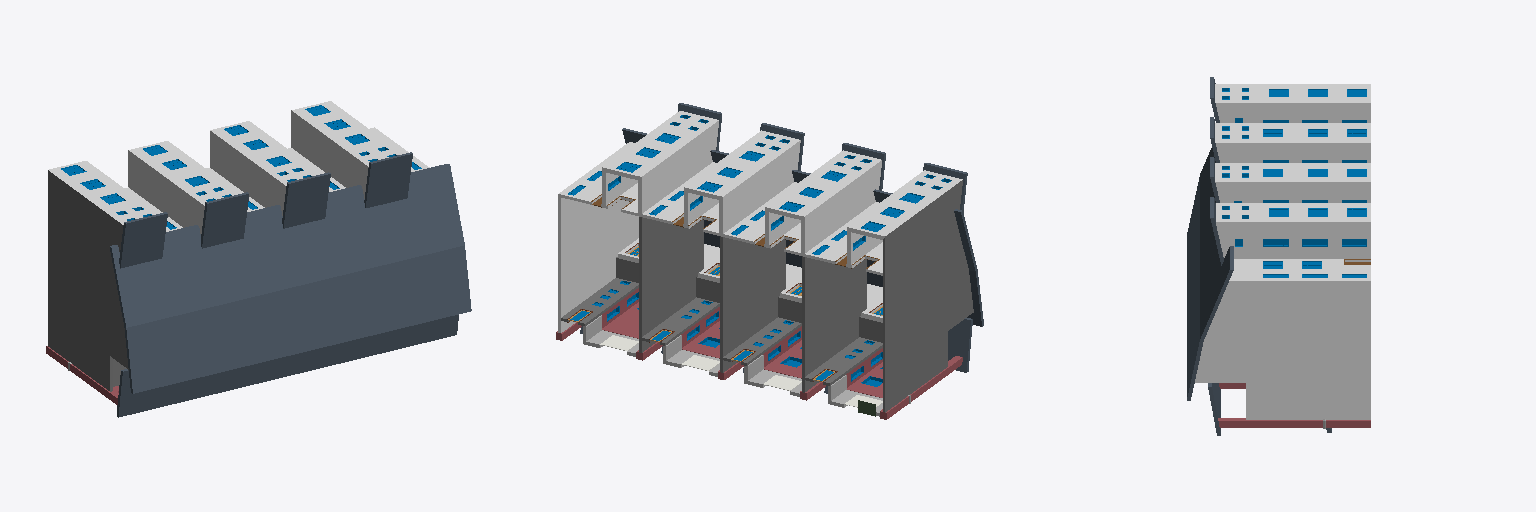
File: c_rvt8_Condo_Complex.obj
3 views of the same model, side by side, from view 1: azimuth 30°, elevation 25°; view 2: azimuth 150°, elevation 25°; view 3: azimuth 270°, elevation 25° (orthographic).
Visible parts, largest first — view 1: Basic_Roof:Generic_-_12":165805, Basic_Wall:Condo_-_Exterior_Stucco:122383, Basic_Roof:Generic_-_12":173767, Basic_Wall:Exterior_-_Brick_on_Mtl._Stud:148438, Basic_Wall:Exterior_-_Brick_on_Mtl._Stud:146178, Basic_Wall:Exterior_-_Brick_on_Mtl._Stud:147302, Basic_Roof:Generic_-_12":166330, Basic_Roof:Generic_-_12":167153, Basic_Roof:Generic_-_12":167184, Basic_Roof:Generic_-_12":167274, Basic_Wall:Exterior_-_Brick_on_Mtl._Stud:147300, Basic_Wall:Exterior_-_Brick_on_Mtl._Stud:148436 (+4 smaller); view 2: Basic_Wall:Condo_-_Exterior_Stucco:122383, Basic_Wall:Condo_-_Exterior_Stucco:174914, Basic_Wall:Condo_-_Exterior_Stucco:165659, Basic_Wall:Condo_-_Exterior_Stucco:165716, Basic_Wall:Condo_-_Exterior_Stucco:165539, Basic_Wall:Condo_-_Exterior_Stucco:147957, Basic_Wall:Exterior_-_Brick_on_Mtl._Stud:147302, Basic_Wall:Exterior_-_Brick_on_Mtl._Stud:146178, Basic_Wall:Exterior_-_Brick_on_Mtl._Stud:148438, Basic_Roof:Generic_-_12":165805, Basic_Wall:Exterior_-_Brick_on_Mtl._Stud:148436, Basic_Wall:Exterior_-_Brick_on_Mtl._Stud:147300 (+18 smaller); view 3: Basic_Wall:Condo_-_Exterior_Stucco:174914, Basic_Roof:Generic_-_12":165805, Basic_Wall:Exterior_-_Brick_on_Mtl._Stud:148435, Basic_Wall:Exterior_-_Brick_on_Mtl._Stud:147299, Basic_Wall:Exterior_-_Brick_on_Mtl._Stud:146175, Basic_Wall:Exterior_-_Brick_on_Mtl._Stud:121698, Basic_Wall:Condo_-_Exterior_Stucco:147957, Basic_Wall:Exterior_-_Brick_on_Mtl._Stud:146176, Basic_Wall:Exterior_-_Brick_on_Mtl._Stud:121729, Basic_Wall:Exterior_-_Brick_on_Mtl._Stud:147300, Basic_Wall:Exterior_-_Brick_on_Mtl._Stud:148436, Rectangular_Column:24"_x_24":168415.
Boxes of the visible parts, x1,y1,x2,y2 form: Basic_Roof:Generic_-_12":165805: [110, 164, 471, 393]; Basic_Wall:Condo_-_Exterior_Stucco:122383: [48, 170, 128, 391]; Basic_Roof:Generic_-_12":173767: [117, 315, 458, 417]; Basic_Wall:Exterior_-_Brick_on_Mtl._Stud:148438: [291, 110, 368, 198]; Basic_Wall:Exterior_-_Brick_on_Mtl._Stud:146178: [128, 150, 204, 233]; Basic_Wall:Exterior_-_Brick_on_Mtl._Stud:147302: [210, 131, 285, 215]; Basic_Roof:Generic_-_12":166330: [119, 212, 167, 268]; Basic_Roof:Generic_-_12":167153: [201, 192, 248, 248]; Basic_Roof:Generic_-_12":167184: [282, 172, 330, 228]; Basic_Roof:Generic_-_12":167274: [364, 152, 412, 207]; Basic_Wall:Exterior_-_Brick_on_Mtl._Stud:147300: [210, 122, 316, 185]; Basic_Wall:Exterior_-_Brick_on_Mtl._Stud:148436: [292, 102, 398, 166]; Basic_Wall:Condo_-_Exterior_Stucco:122383: [883, 180, 973, 412]; Basic_Wall:Condo_-_Exterior_Stucco:174914: [558, 197, 638, 332]; Basic_Wall:Condo_-_Exterior_Stucco:165659: [720, 236, 785, 372]; Basic_Wall:Condo_-_Exterior_Stucco:165716: [639, 217, 703, 352]; Basic_Wall:Condo_-_Exterior_Stucco:165539: [802, 256, 866, 392]; Basic_Wall:Condo_-_Exterior_Stucco:147957: [558, 142, 882, 275]; Basic_Wall:Exterior_-_Brick_on_Mtl._Stud:147302: [719, 140, 800, 233]; Basic_Wall:Exterior_-_Brick_on_Mtl._Stud:146178: [801, 160, 881, 253]; Basic_Wall:Exterior_-_Brick_on_Mtl._Stud:148438: [638, 121, 718, 213]; Basic_Roof:Generic_-_12":165805: [622, 128, 983, 326]; Basic_Wall:Exterior_-_Brick_on_Mtl._Stud:148436: [606, 112, 718, 179]; Basic_Wall:Exterior_-_Brick_on_Mtl._Stud:147300: [688, 131, 799, 199]; Basic_Wall:Condo_-_Exterior_Stucco:174914: [1195, 284, 1370, 419]; Basic_Roof:Generic_-_12":165805: [1187, 148, 1233, 400]; Basic_Wall:Exterior_-_Brick_on_Mtl._Stud:148435: [1216, 220, 1370, 258]; Basic_Wall:Exterior_-_Brick_on_Mtl._Stud:147299: [1215, 180, 1370, 202]; Basic_Wall:Exterior_-_Brick_on_Mtl._Stud:146175: [1215, 141, 1370, 162]; Basic_Wall:Exterior_-_Brick_on_Mtl._Stud:121698: [1215, 101, 1370, 122]; Basic_Wall:Condo_-_Exterior_Stucco:147957: [1228, 259, 1370, 283]; Basic_Wall:Exterior_-_Brick_on_Mtl._Stud:146176: [1215, 123, 1370, 140]; Basic_Wall:Exterior_-_Brick_on_Mtl._Stud:121729: [1215, 84, 1370, 100]; Basic_Wall:Exterior_-_Brick_on_Mtl._Stud:147300: [1215, 163, 1370, 179]; Basic_Wall:Exterior_-_Brick_on_Mtl._Stud:148436: [1216, 203, 1370, 219]; Rectangular_Column:24"_x_24":168415: [1218, 418, 1370, 427].
Bounding box in the file's own units: 30.46 × 16.83 × 14.5.